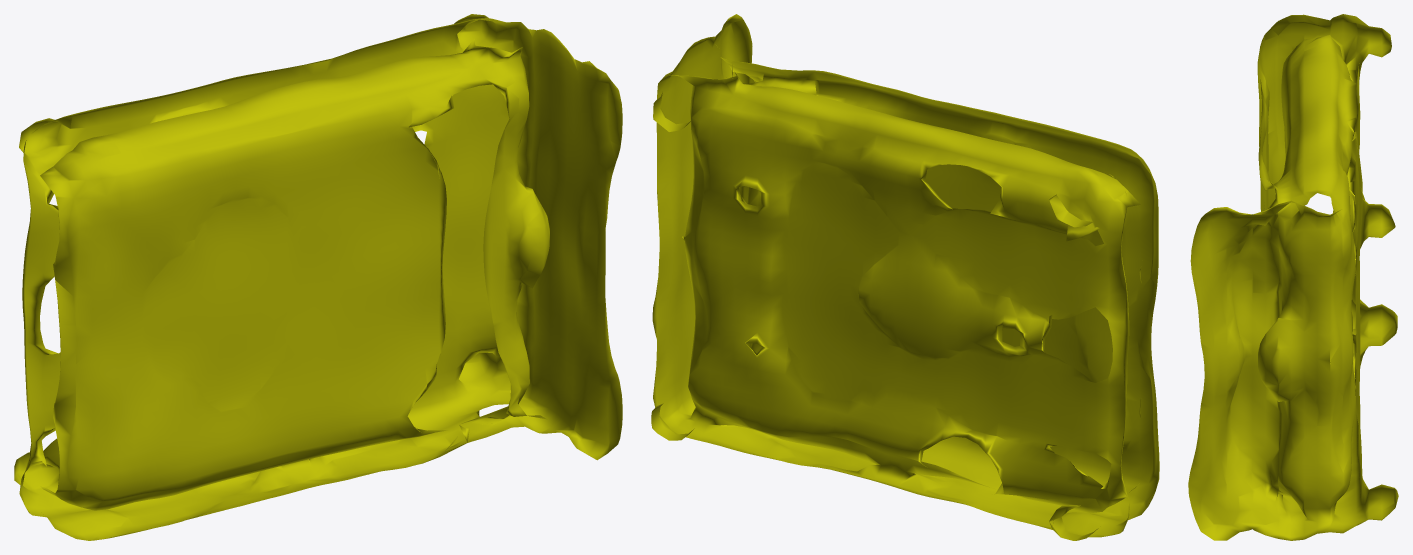
The picture shows the model from 3 angles, left to right: view 1: azimuth 30°, elevation 25°; view 2: azimuth 150°, elevation 25°; view 3: azimuth 270°, elevation 25°; orthographic projection. The views are drawn at different scales.
Visible parts, largest first — view 1: world; view 2: world; view 3: world.
Part boxes in pixels (x1=…): world: x1=14, y1=14, x2=622, y2=540; world: x1=651, y1=14, x2=1159, y2=540; world: x1=1188, y1=14, x2=1398, y2=540.
Bounding box in the file's own units: 39.15 × 29.39 × 16.28.
